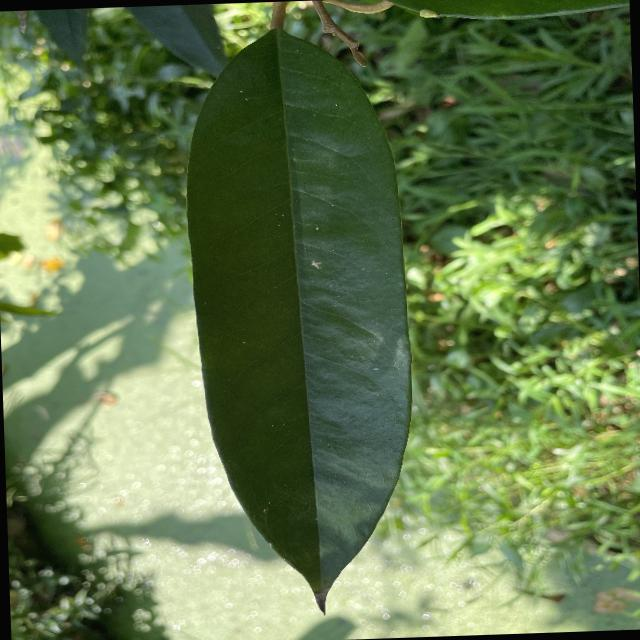No Disease: (170, 14, 426, 620)
